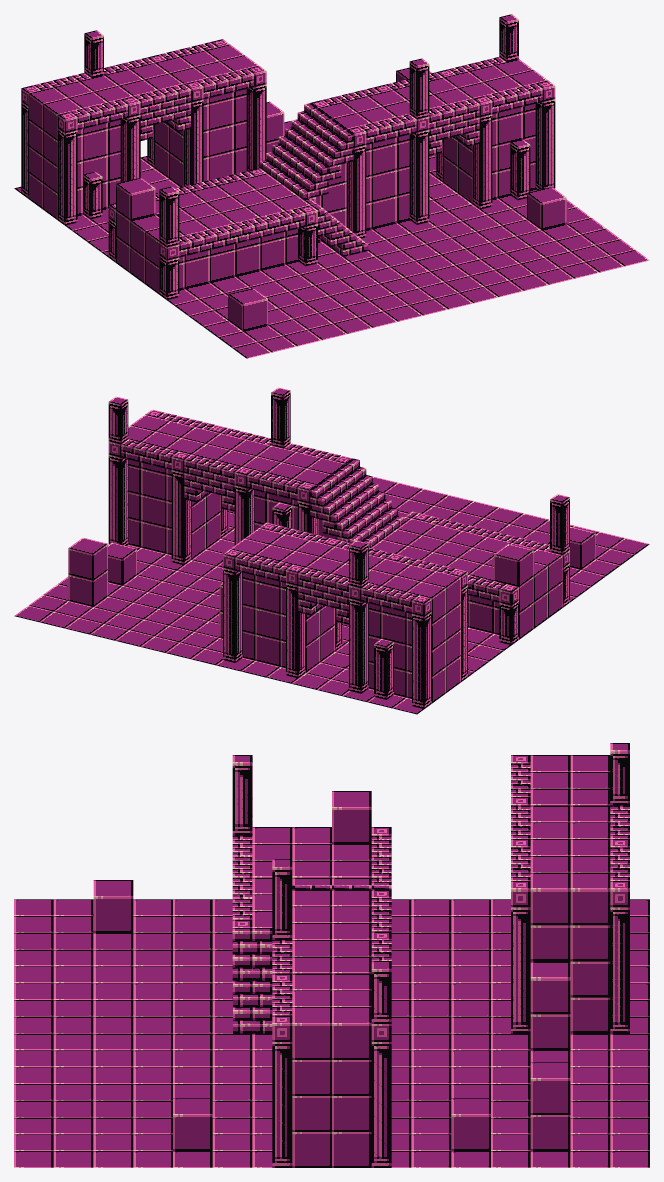
The model's file is PixelEnvironment.fbx.
The picture shows the model from 3 angles, top to bottom: view 1: azimuth 30°, elevation 25°; view 2: azimuth 150°, elevation 25°; view 3: azimuth 270°, elevation 25°; orthographic projection. The views are drawn at different scales.
Visible parts, largest first — view 1: Ground, Cube.001, Cube.006, Cube.008, Cube.004, Cube.005, Brick_2.005, Pillar.016, Pillar.003, Pillar.011, Pillar.014, Pillar.004 (+34 smaller); view 2: Ground, Cube.001, Cube.006, Cube.008, Cube.004, Cube.005, Pillar.017, Pillar.012, Pillar.018, Pillar.022, Pillar.006, Pillar.021 (+31 smaller); view 3: Ground, Cube.004, Cube.008, Cube.001, Cube.006, Cube.005, Cube.007, Cube.002, Pillar.011, Pillar.012, Pillar.019, Pillar.022 (+24 smaller).
Part boxes in pixels (x1=…): Ground: x1=14, y1=121, x2=649, y2=358; Cube.001: x1=116, y1=173, x2=310, y2=294; Cube.006: x1=28, y1=75, x2=132, y2=219; Cube.008: x1=154, y1=44, x2=258, y2=187; Cube.004: x1=443, y1=59, x2=547, y2=203; Cube.005: x1=318, y1=90, x2=409, y2=229; Brick_2.005: x1=179, y1=208, x2=305, y2=257; Pillar.016: x1=57, y1=128, x2=77, y2=225; Pillar.003: x1=409, y1=130, x2=429, y2=224; Pillar.011: x1=535, y1=99, x2=555, y2=190; Pillar.014: x1=346, y1=145, x2=366, y2=238; Pillar.004: x1=472, y1=114, x2=492, y2=209; Ground: x1=14, y1=476, x2=649, y2=714; Cube.001: x1=371, y1=518, x2=562, y2=639; Cube.006: x1=368, y1=558, x2=460, y2=703; Cube.008: x1=230, y1=528, x2=334, y2=672; Cube.004: x1=128, y1=415, x2=220, y2=559; Cube.005: x1=242, y1=445, x2=345, y2=530; Pillar.017: x1=412, y1=612, x2=431, y2=708; Pillar.012: x1=108, y1=455, x2=128, y2=545; Pillar.018: x1=349, y1=598, x2=368, y2=693; Pillar.022: x1=223, y1=568, x2=242, y2=662; Pillar.006: x1=171, y1=470, x2=191, y2=565; Pillar.021: x1=286, y1=583, x2=305, y2=678; Ground: x1=14, y1=899, x2=649, y2=1167; Cube.004: x1=292, y1=973, x2=371, y2=1167; Cube.008: x1=530, y1=839, x2=610, y2=1033; Cube.001: x1=252, y1=827, x2=371, y2=927; Cube.006: x1=530, y1=755, x2=610, y2=805; Cube.005: x1=292, y1=889, x2=371, y2=939; Cube.007: x1=530, y1=805, x2=610, y2=838; Cube.002: x1=292, y1=940, x2=371, y2=973; Pillar.011: x1=272, y1=1042, x2=292, y2=1167; Pillar.012: x1=371, y1=1042, x2=391, y2=1167; Pillar.019: x1=511, y1=907, x2=530, y2=1033; Pillar.022: x1=610, y1=907, x2=629, y2=1033.
Size of the model in its own units: 1600 by 600 by 1600.
